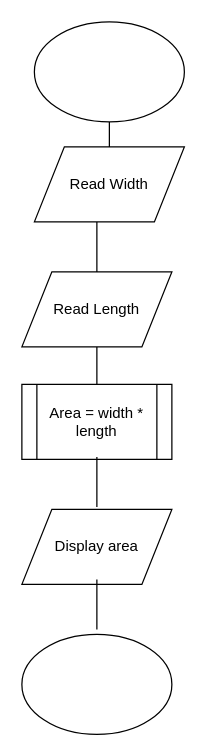
Some shapes in this 206 by 756 pixel diagram are drawn without their labels. The shapes that lost their labels are listed below. From the top down, each one's centre as x and y in pixels, then its label:
At pixel 108 71: "Start".
At pixel 96 683: "Stop".
